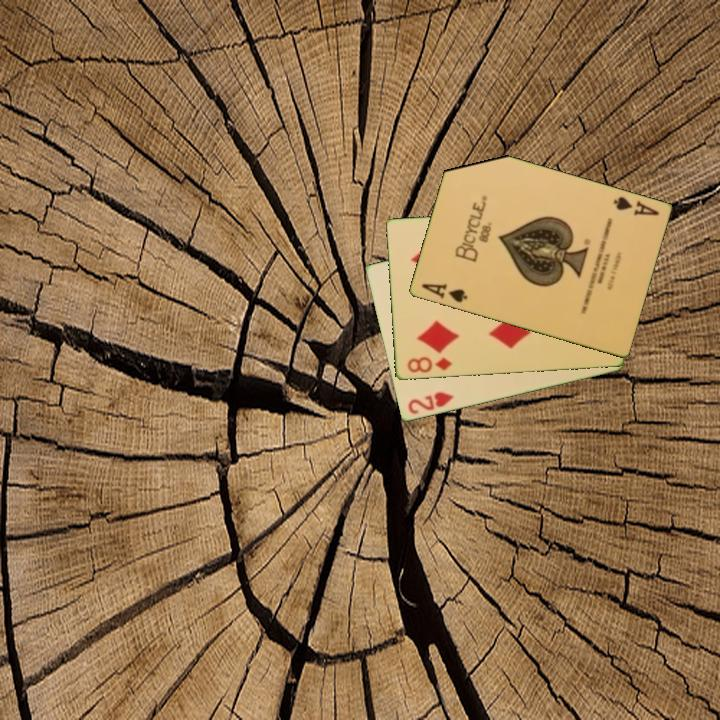2h: (404, 389, 456, 417)
8d: (403, 353, 454, 376)
As: (418, 280, 470, 306), (610, 193, 662, 219)
